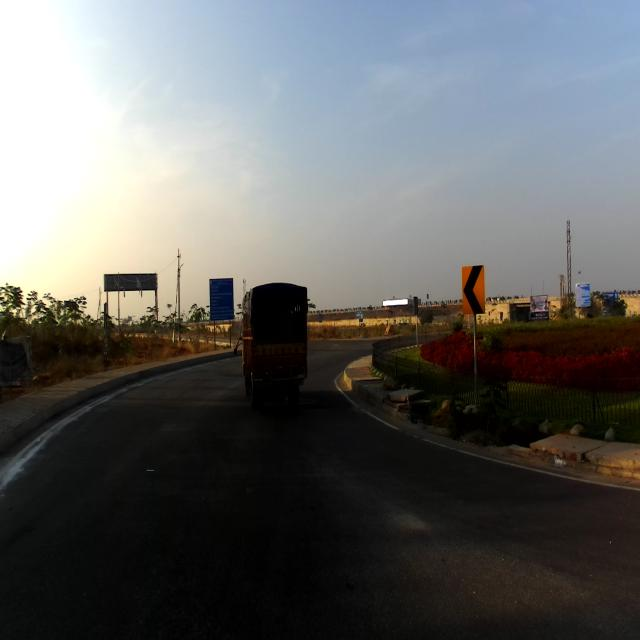sign board ahead at: (458, 264, 491, 324)
truck ahead at: (242, 271, 309, 407)
